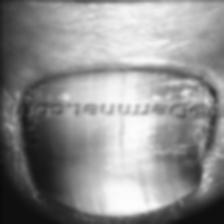Toxin: (15, 119, 217, 214), (11, 60, 218, 102)
